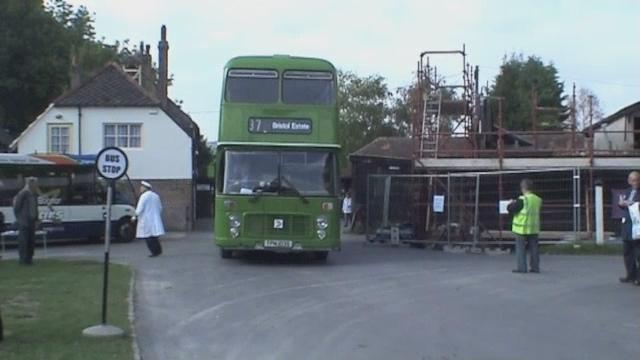bus: (216, 54, 340, 261), (0, 152, 136, 243)
